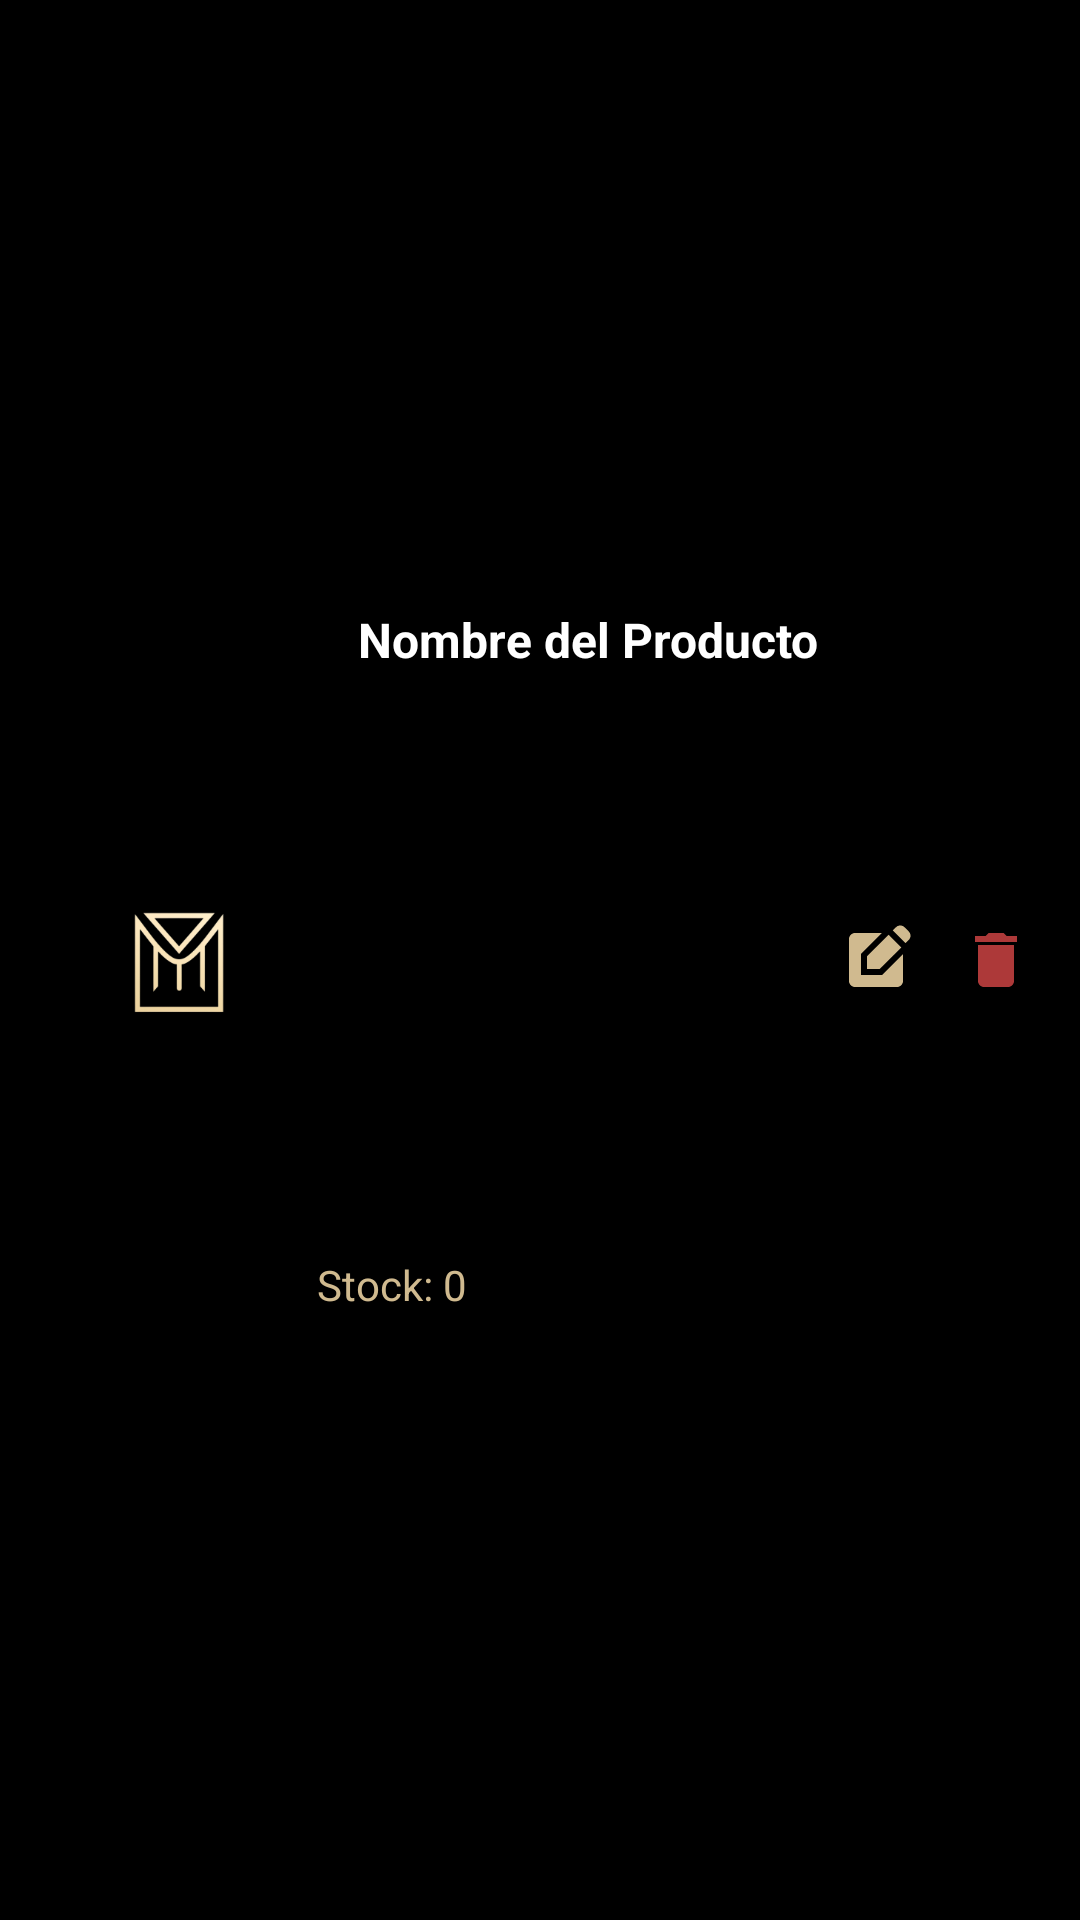

Screen size 1080 × 1920. Icon name, then its box in pixels as bbox=(x1, y1, x2, y2):
Editar Producto: bbox=(849, 925, 911, 987)
Eliminar Producto: bbox=(975, 933, 1017, 987)
